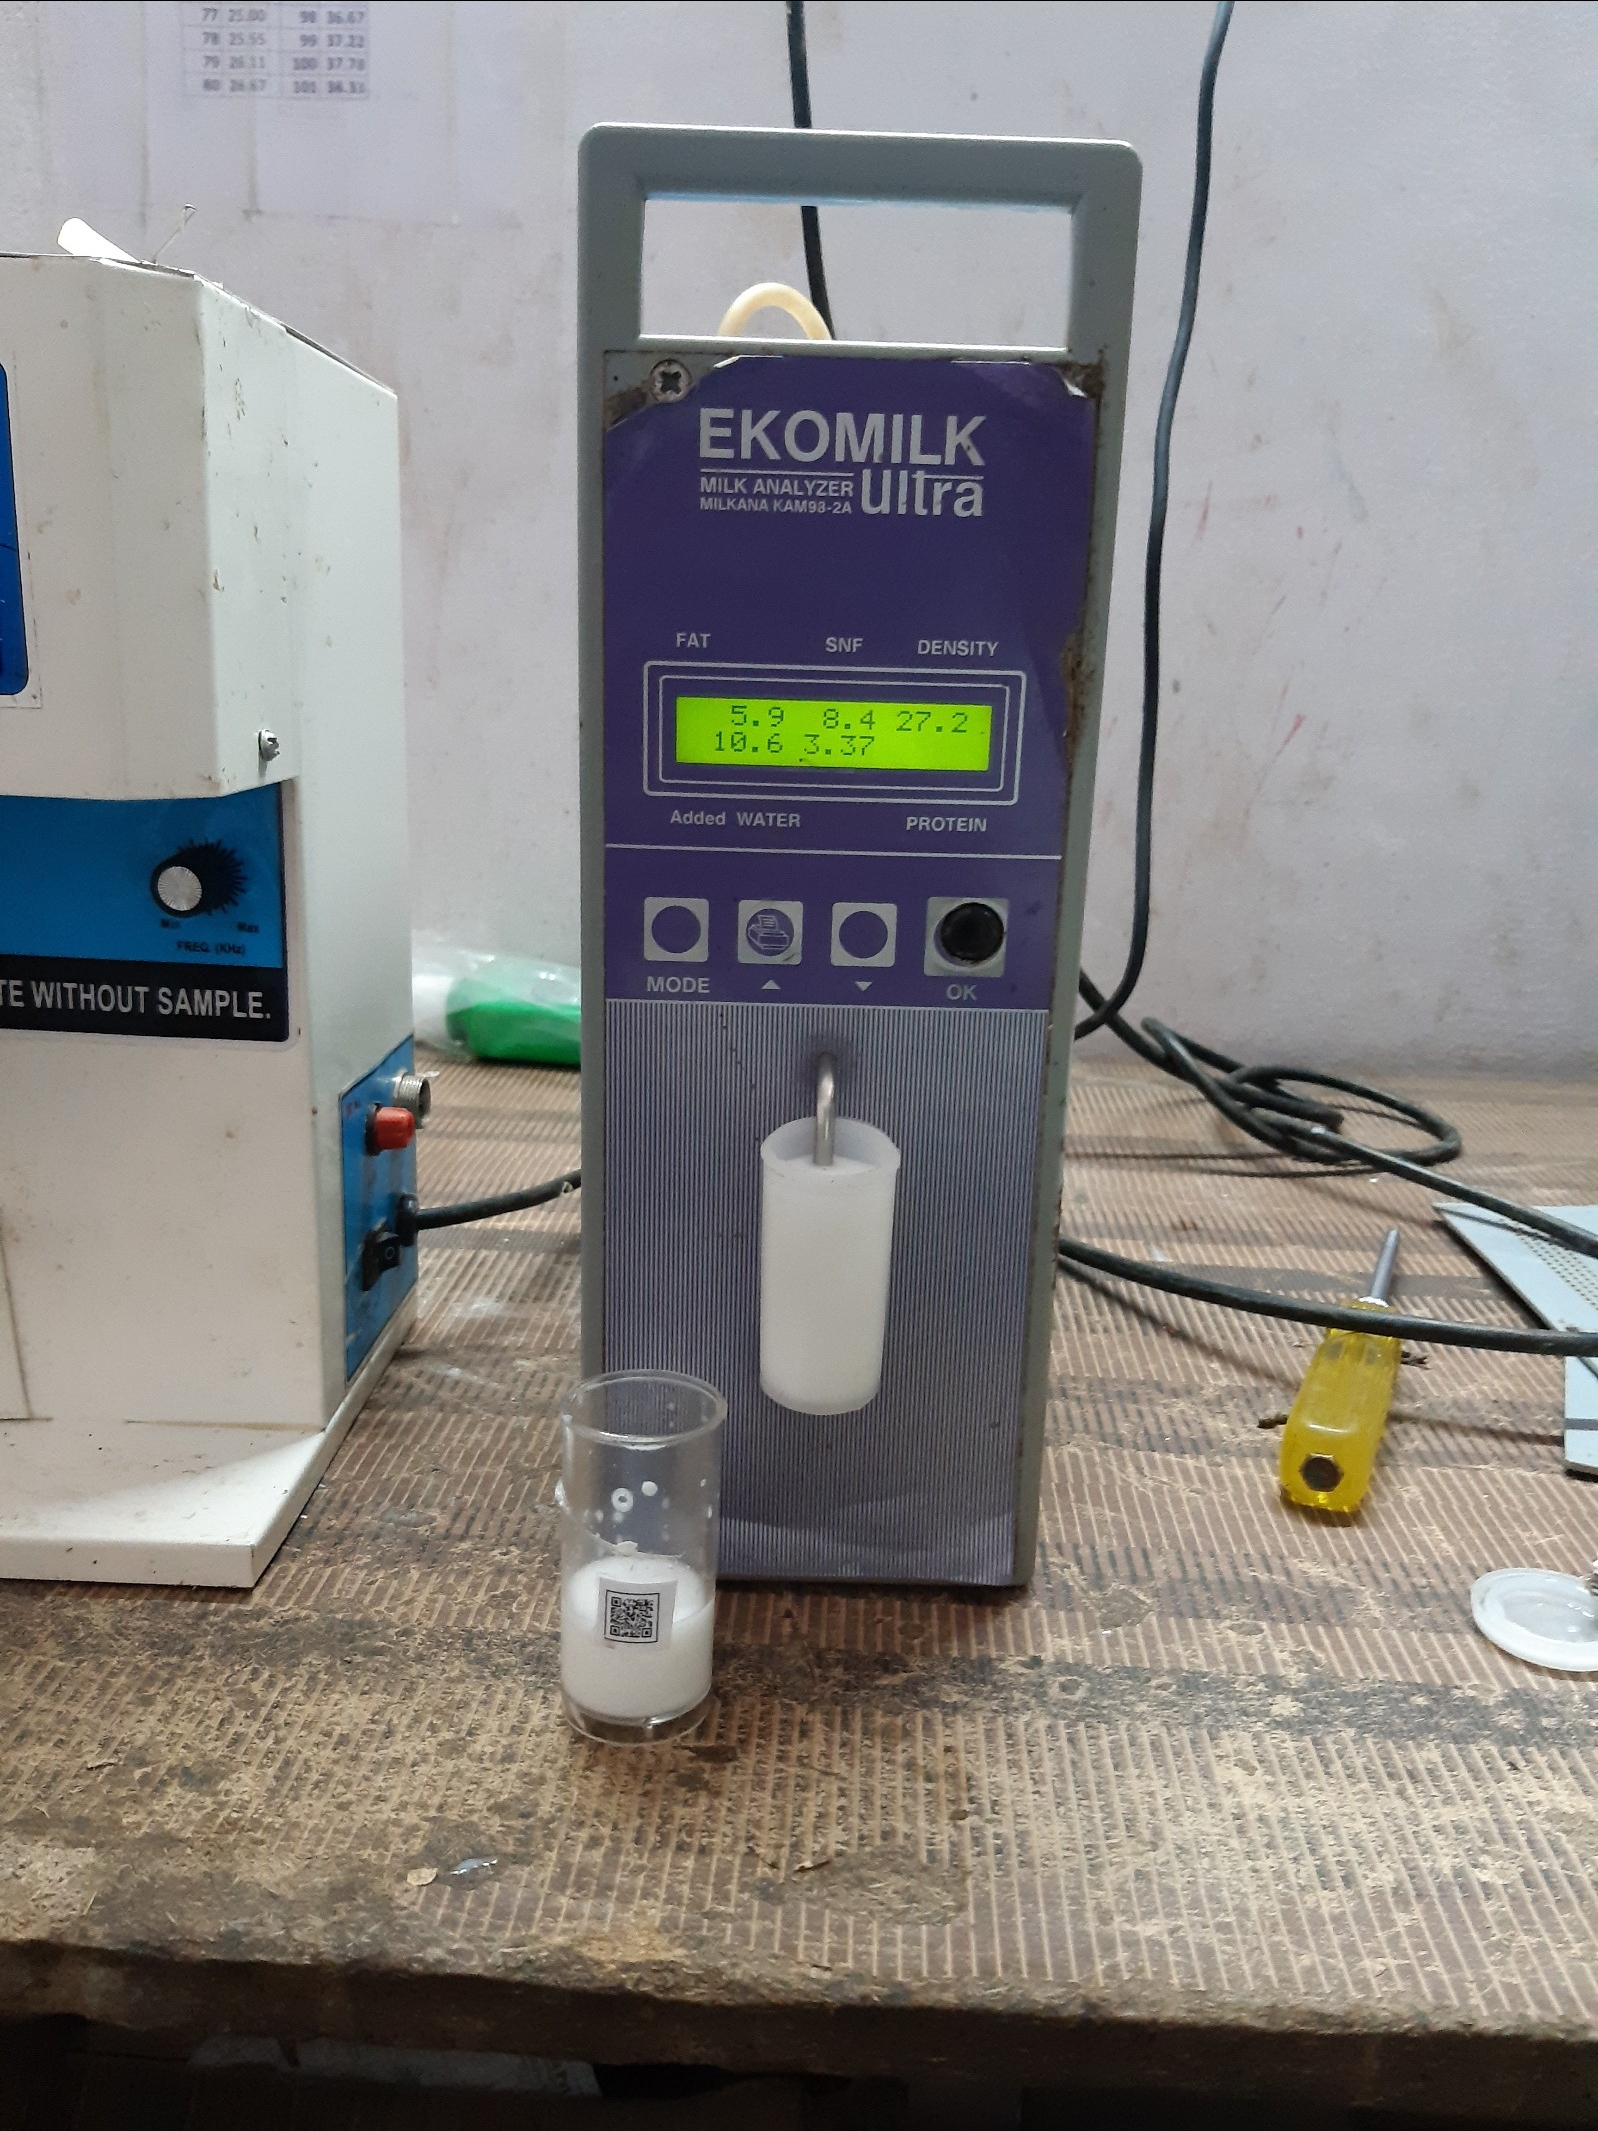lcd: (675, 695, 1004, 784)
qr: (593, 1584, 675, 1649)
